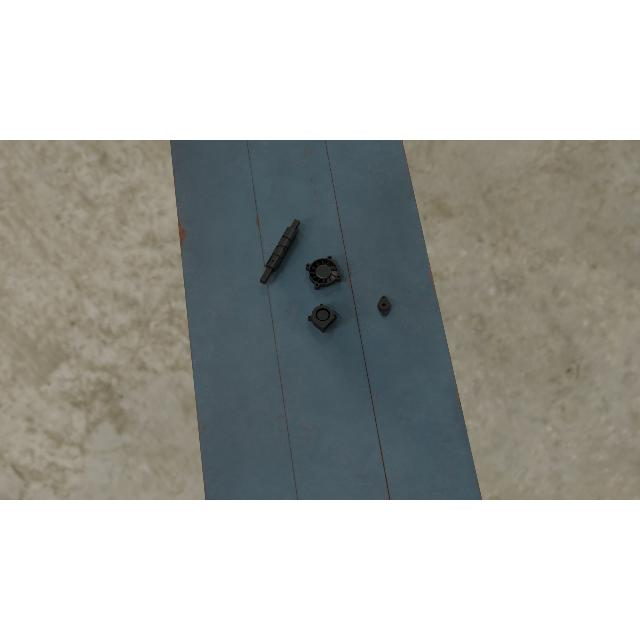Pieza1: (258, 217, 302, 287)
Pieza2: (378, 296, 390, 316)
Pieza3: (306, 301, 338, 333)
Pieza4: (304, 254, 342, 292)
